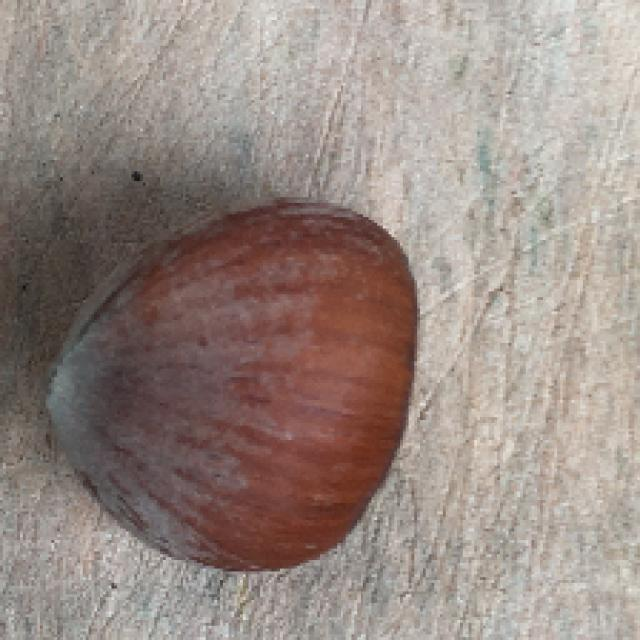qualityHazelnut: (40, 195, 422, 575)
